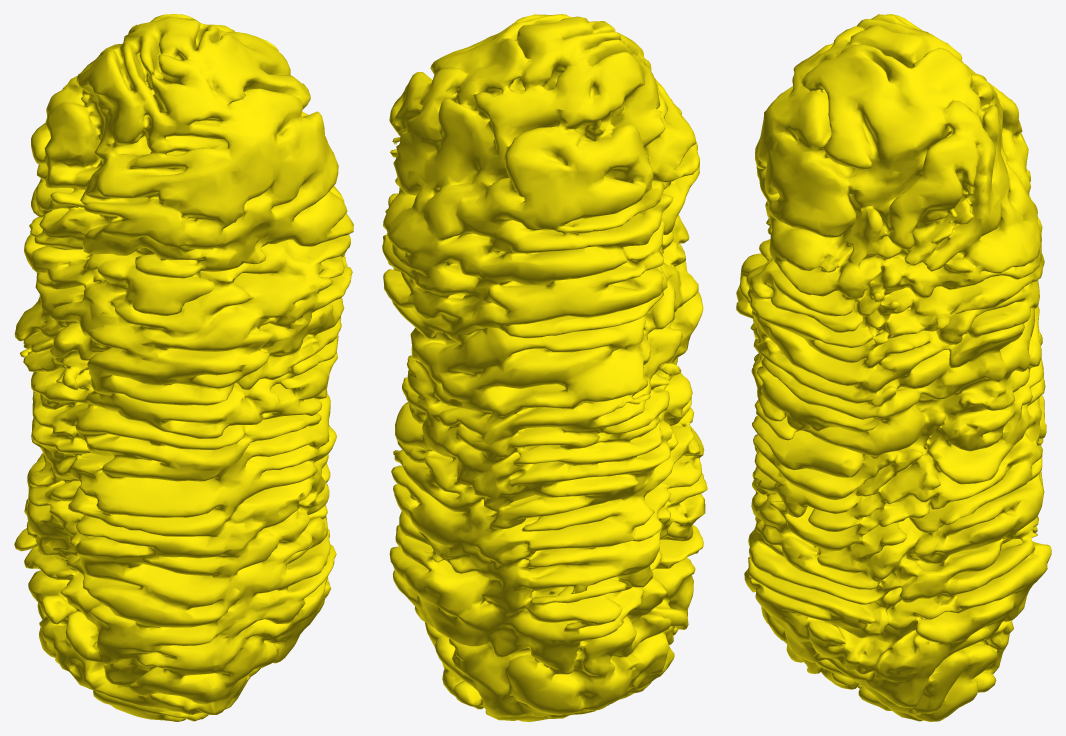
The model's file is advmat.glb.
The picture shows the model from 3 angles, left to right: view 1: azimuth 30°, elevation 25°; view 2: azimuth 150°, elevation 25°; view 3: azimuth 270°, elevation 25°; orthographic projection. The views are drawn at different scales.
Parts seen in each view (by area): view 1: AdvMat2026_SC-S-120_1; view 2: AdvMat2026_SC-S-120_1; view 3: AdvMat2026_SC-S-120_1.
Part boxes in pixels (left/top/right/bottom): AdvMat2026_SC-S-120_1: left=14, top=14, right=353, bottom=721; AdvMat2026_SC-S-120_1: left=382, top=14, right=707, bottom=721; AdvMat2026_SC-S-120_1: left=736, top=14, right=1051, bottom=721.
Bounding box in the file's own units: 2.67 × 6.4 × 2.73.
